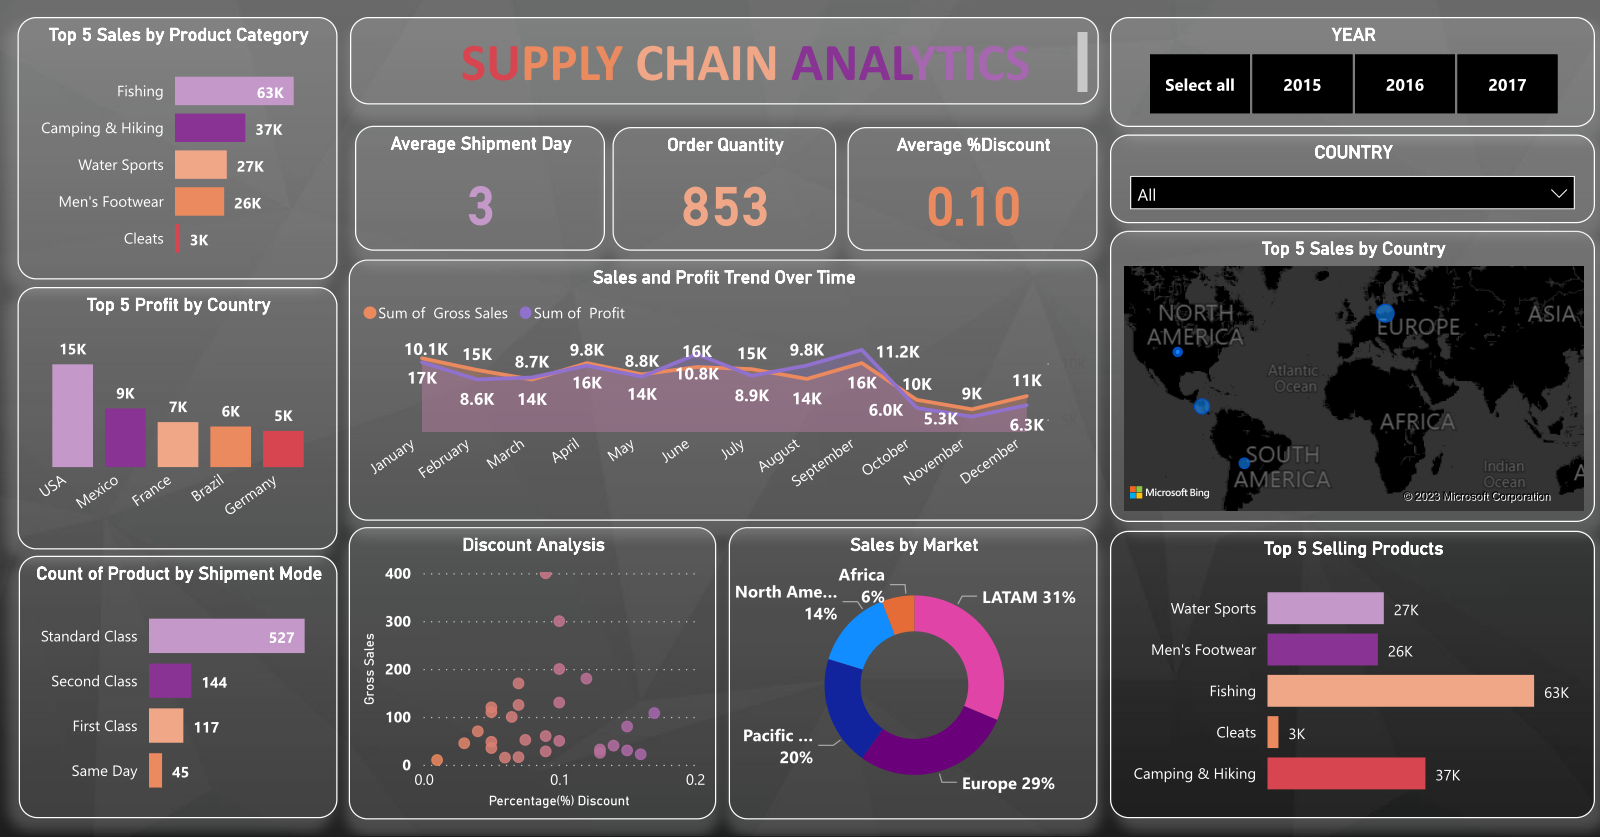

The page's visual inventory and layout, read from the dashboard file:
{"tool":"powerbi","page":{"name":"Page 1","canvas":[1280,720],"ordinal":0},"visuals":[{"type":"barChart","title":"Top 5 Sales by Product Category","fields":{"Category":["datacamp_workspace_export_2023-07-10 10_25_56.Product Category"],"Y":["Sum(datacamp_workspace_export_2023-07-10 10_25_56. Gross Sales )"]},"box":[13.7,64.5,256.6,209.9],"z":0},{"type":"map","title":"Top 5 Sales by Country","fields":{"Size":["Sum(datacamp_workspace_export_2023-07-10 10_25_56. Gross Sales )"],"Category":["datacamp_workspace_export_2023-07-10 10_25_56.Customer Region"]},"box":[887.8,234.6,388.3,233.3],"z":1000},{"type":"slicer","title":"YEAR","fields":{"Values":["datacamp_workspace_export_2023-07-10 10_25_56.Shipment Date.Variation.Date Hierarchy.Year"]},"box":[887.8,64.5,388.3,87.8],"z":2000},{"type":"columnChart","title":"Top 5 Profit by Country","fields":{"Y":["Sum(datacamp_workspace_export_2023-07-10 10_25_56. Profit )"],"Category":["datacamp_workspace_export_2023-07-10 10_25_56.Customer Country"]},"box":[13.7,279.9,256.6,209.9],"z":3000},{"type":"scatterChart","title":"Discount Analysis","fields":{"X":["Median(datacamp_workspace_export_2023-07-10 10_25_56. Discount % )"],"Y":["datacamp_workspace_export_2023-07-10 10_25_56. Gross Sales "]},"box":[278.9,472.2,294.4,233.3],"z":4000},{"type":"donutChart","title":"Sales by Market","fields":{"Category":["datacamp_workspace_export_2023-07-10 10_25_56.Customer Market"],"Y":["Sum(datacamp_workspace_export_2023-07-10 10_25_56. Gross Sales )"]},"box":[583.3,472.2,294.4,233.3],"z":5000},{"type":"clusteredBarChart","title":"Top 5 Selling Products","fields":{"Category":["datacamp_workspace_export_2023-07-10 10_25_56.Product Category"],"Y":["Sum(datacamp_workspace_export_2023-07-10 10_25_56. Gross Sales )"]},"box":[887.8,474.8,388.3,230.5],"z":6000},{"type":"areaChart","title":"Sales and Profit Trend Over Time","fields":{"Y":["Sum(datacamp_workspace_export_2023-07-10 10_25_56. Gross Sales )"],"Category":["datacamp_workspace_export_2023-07-10 10_25_56.Shipment Date.Variation.Date Hierarchy.Month"],"Y2":["Sum(datacamp_workspace_export_2023-07-10 10_25_56. Profit )"]},"box":[278.9,257.8,598.9,208.9],"z":7000},{"type":"slicer","title":"COUNTRY","fields":{"Values":["datacamp_workspace_export_2023-07-10 10_25_56.Customer Country"]},"box":[887.8,157.8,388.3,71.4],"z":8000},{"type":"barChart","title":"Count of Product by Shipment Mode","fields":{"Category":["datacamp_workspace_export_2023-07-10 10_25_56.Shipment Mode"],"Y":["CountNonNull(datacamp_workspace_export_2023-07-10 10_25_56.Product Category)"]},"box":[15.1,495.4,255.2,209.9],"z":10000},{"type":"card","title":"Order Quantity","fields":{"Values":["Sum(datacamp_workspace_export_2023-07-10 10_25_56.Order Quantity)"]},"box":[490,152.2,178.9,98.9],"z":10002},{"type":"card","title":"Average %Discount","fields":{"Values":["Avg(datacamp_workspace_export_2023-07-10 10_25_56. Discount % )"]},"box":[677.8,152.2,200,98.9],"z":10003},{"type":"card","title":"Average Shipment Day","fields":{"Values":["Avg(datacamp_workspace_export_2023-07-10 10_25_56. Shipment Days - Scheduled )"]},"box":[284.4,151.1,200,100],"z":10004},{"type":"textbox","box":[280,64.4,598.9,70],"z":10005}]}

Visuals, with their boxes in screenshot pixels (x1, y1, x2, y2):
"Top 5 Sales by Product Category" barChart: [21, 21, 337, 280]
"Top 5 Sales by Country" map: [1099, 231, 1578, 519]
"YEAR" slicer: [1099, 21, 1578, 129]
"Top 5 Profit by Country" columnChart: [21, 287, 337, 546]
"Discount Analysis" scatterChart: [348, 524, 711, 812]
"Sales by Market" donutChart: [723, 524, 1086, 812]
"Top 5 Selling Products" clusteredBarChart: [1099, 527, 1578, 811]
"Sales and Profit Trend Over Time" areaChart: [348, 260, 1086, 517]
"COUNTRY" slicer: [1099, 136, 1578, 224]
"Count of Product by Shipment Mode" barChart: [23, 552, 337, 811]
"Order Quantity" card: [608, 129, 829, 251]
"Average %Discount" card: [840, 129, 1086, 251]
"Average Shipment Day" card: [355, 128, 601, 251]
textbox: [349, 21, 1088, 107]
